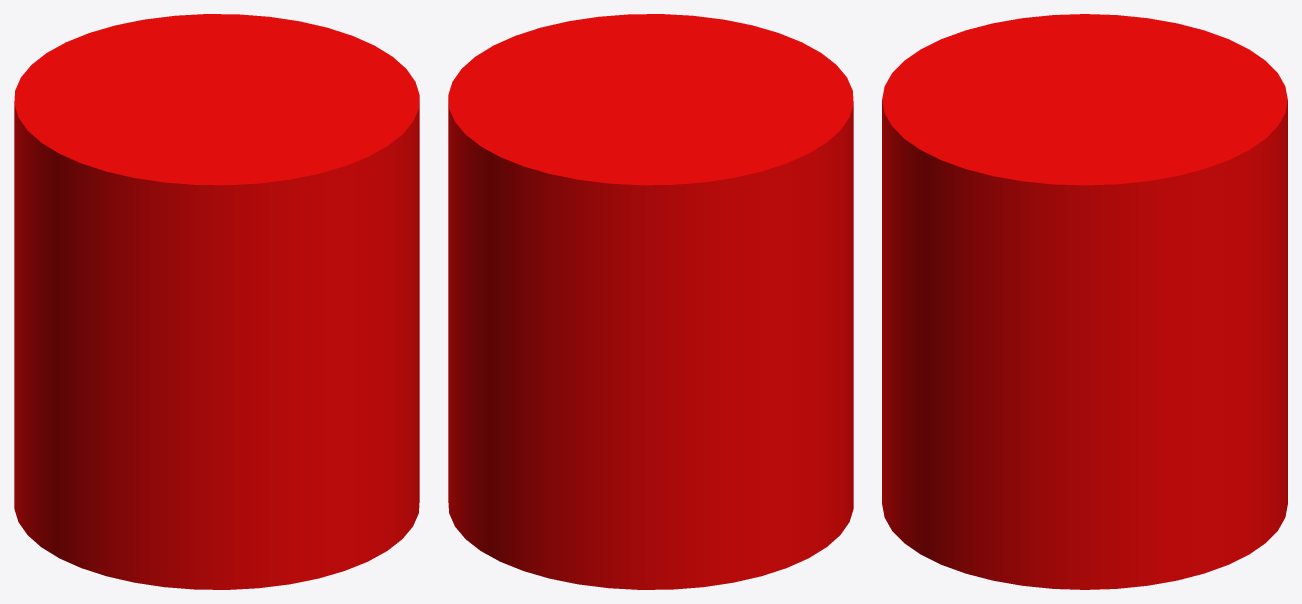
3 views of the same model, side by side, from view 1: azimuth 30°, elevation 25°; view 2: azimuth 150°, elevation 25°; view 3: azimuth 270°, elevation 25° (orthographic).
Parts seen in each view (by area): view 1: 원기둥 1; view 2: 원기둥 1; view 3: 원기둥 1.
Part boxes in pixels (x1,y1,x2,y2): 원기둥 1: (14, 14, 419, 589); 원기둥 1: (448, 14, 853, 589); 원기둥 1: (882, 14, 1287, 589).
Bounding box in the file's own units: 8.4 × 9.24 × 8.4.
